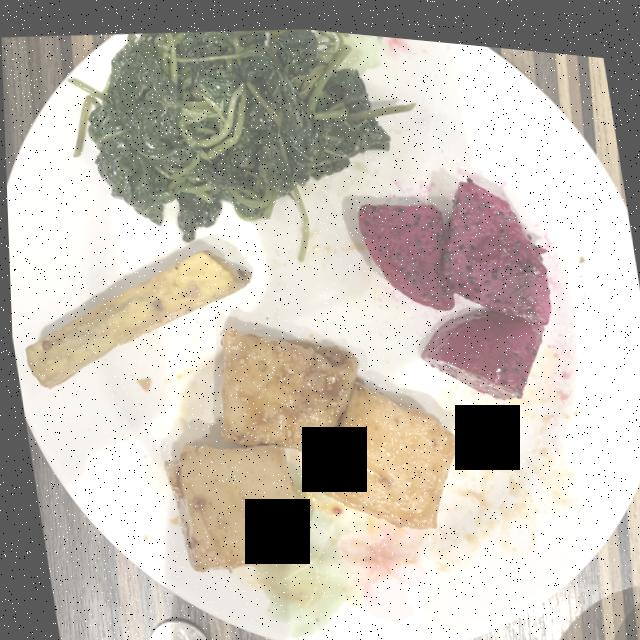coin: (143, 614, 204, 640)
creamy tofu: (161, 324, 455, 567)
sweet potato leaves: (76, 23, 407, 253)
